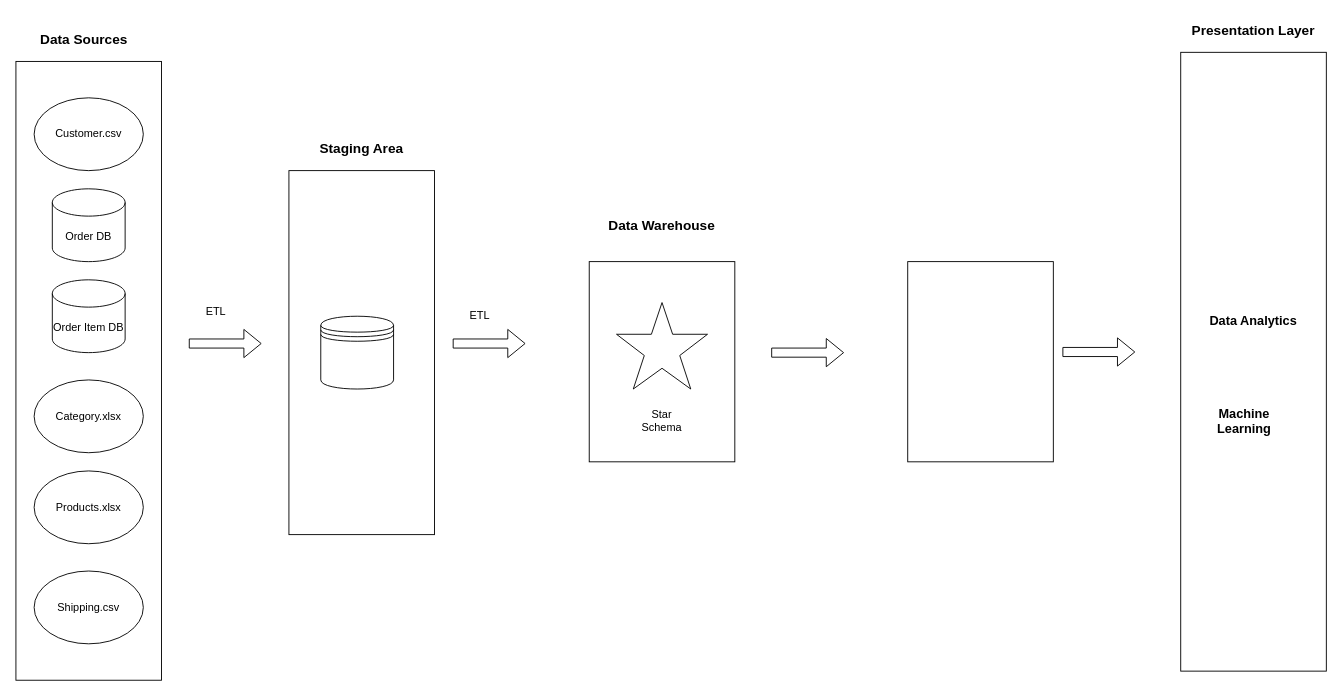
Image size: 1342x696. Some labels were removed from this diagram. The shapes that lost their labels are listed below. From the top down, each one's box as (x1, y1, x2, y2) in pixels, then its label:
(320, 315, 394, 389): Staging Database
(907, 261, 1053, 462): OLAP Cube
